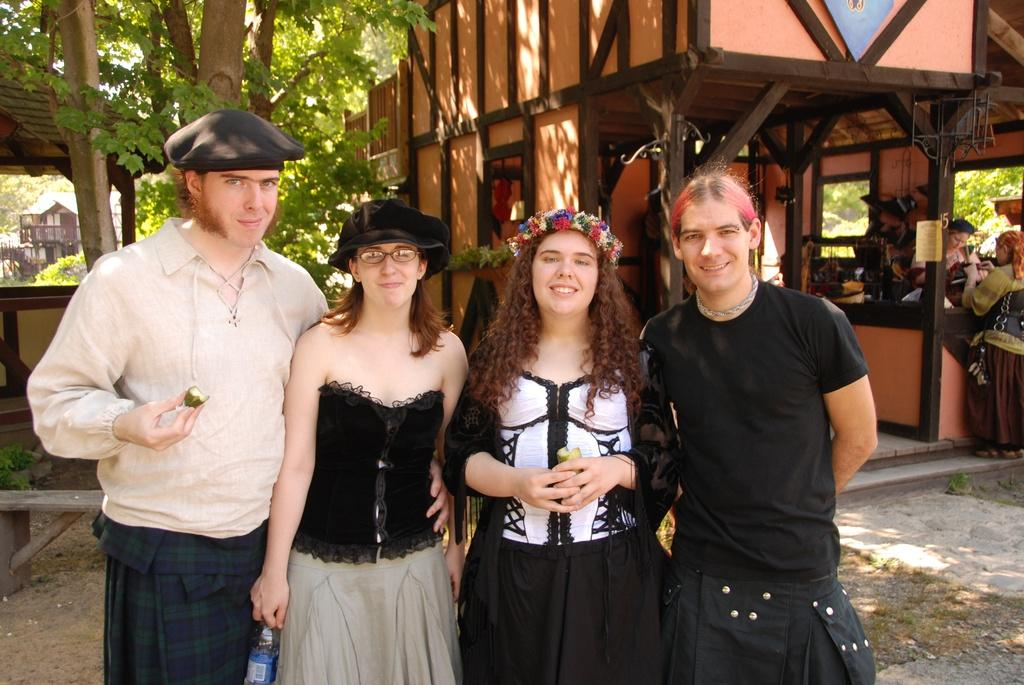Hat: (326, 194, 452, 278), (161, 107, 309, 174)
